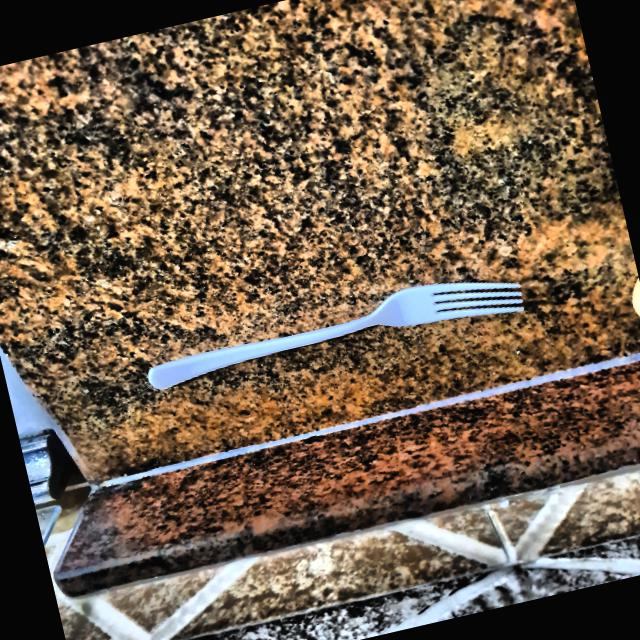plastic utensil: (141, 261, 534, 402)
